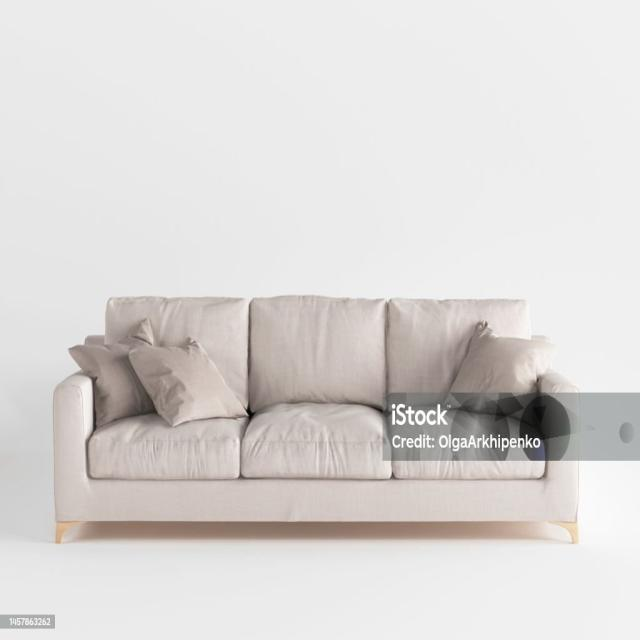back_cushion: (106, 296, 531, 411)
base: (63, 461, 578, 521)
left_arm: (538, 370, 578, 520)
legs: (55, 521, 84, 543), (561, 521, 578, 543)
right_arm: (53, 372, 94, 519)
seat_cushion: (88, 400, 550, 479)
stallion-sofa1: (0, 0, 639, 638)
